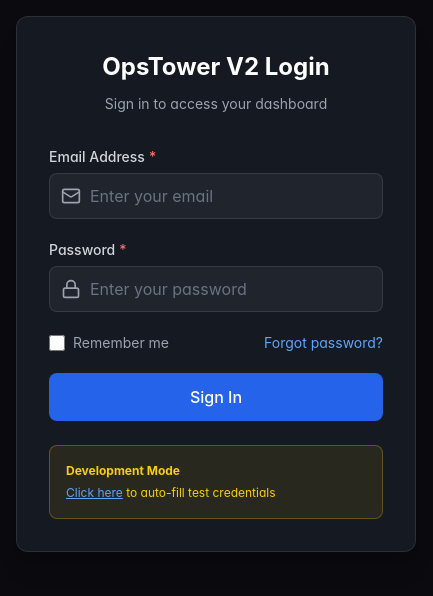
Test: LoginPage › should show validation error for empty password
In the field with placeholder "Enter your email": point(216, 196) [49,173,383,219], type "test@example.com"
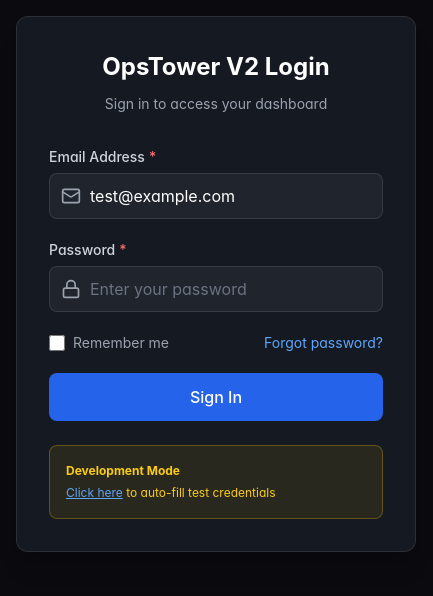
Click the button "Sign In": point(216, 397) [49,373,383,421]
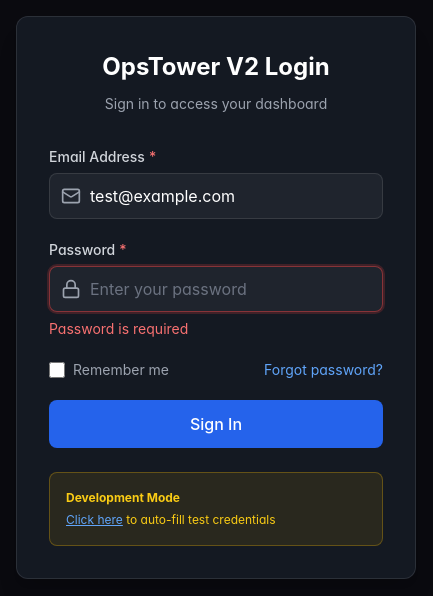
Check: the text "Password is required" is shown, box [49,320,188,337]
